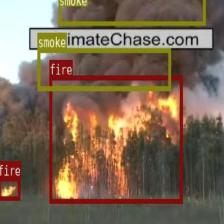fire: (49, 75, 182, 203), (0, 176, 20, 199)
smoke: (37, 48, 170, 90), (58, 0, 205, 24)
